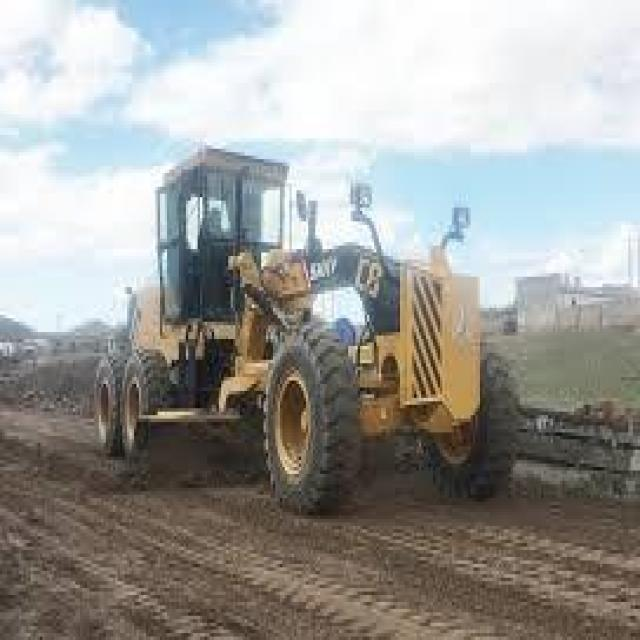Grader: (80, 138, 529, 526)
